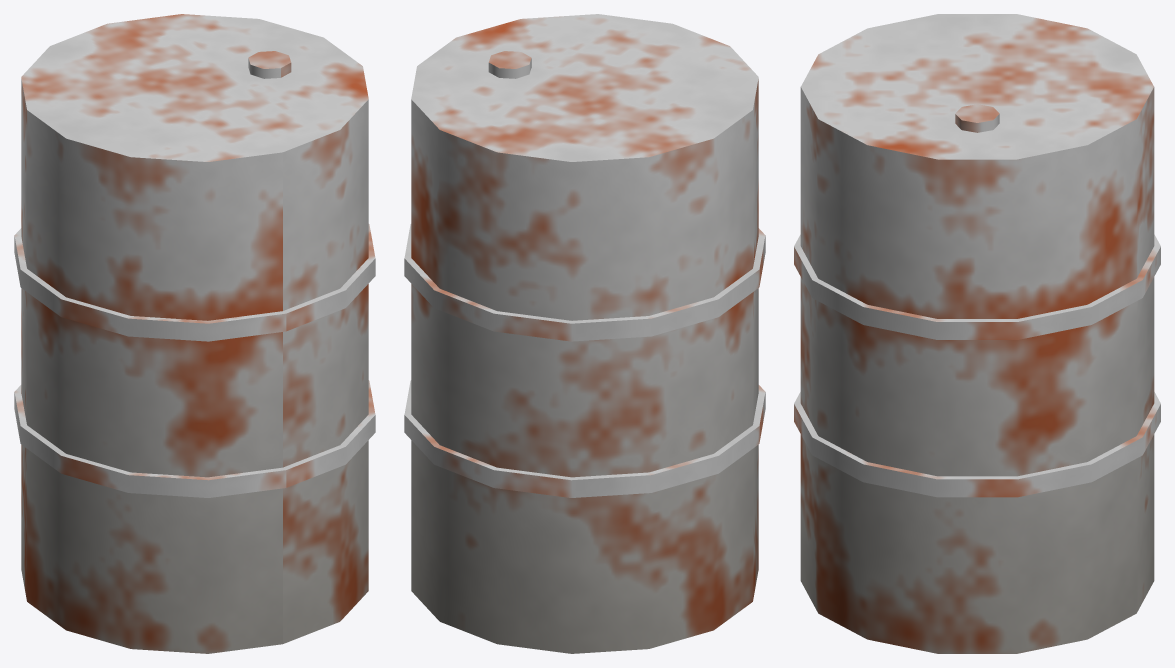
Rendered from map_oil_barrel.glb.
3 renders of one model, left to right at view 1: azimuth 30°, elevation 25°; view 2: azimuth 150°, elevation 25°; view 3: azimuth 270°, elevation 25°, orthographic.
Visible parts, largest first — view 1: oil_barrel_root; view 2: oil_barrel_root; view 3: oil_barrel_root.
Part boxes in pixels (bbox=[...]): oil_barrel_root: bbox=[14, 14, 375, 653]; oil_barrel_root: bbox=[404, 14, 765, 653]; oil_barrel_root: bbox=[794, 14, 1160, 653].
Size of the model in its own units: 0.5772 by 0.8975 by 0.592.
1 material, 1 textured.
